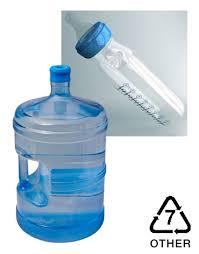Plastic can: (5, 63, 116, 246)
